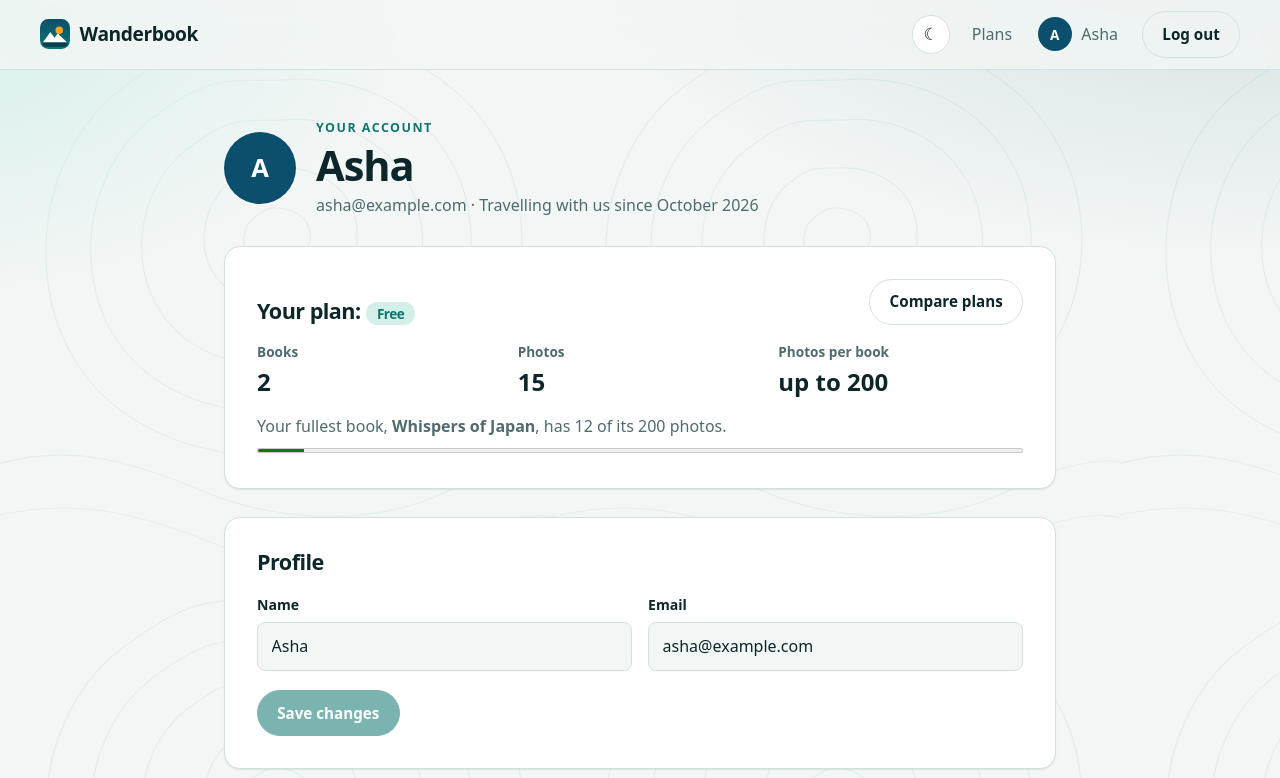
Test: the account page › renames without a password, and asks for it only when the email changes
This screenshot has width=1280, height=778.
Expected: the field labelled "Current password" is not shown
Replace the text in the field labelled "Name" with "Asha R": x=444, y=646 [257, 622, 632, 671]
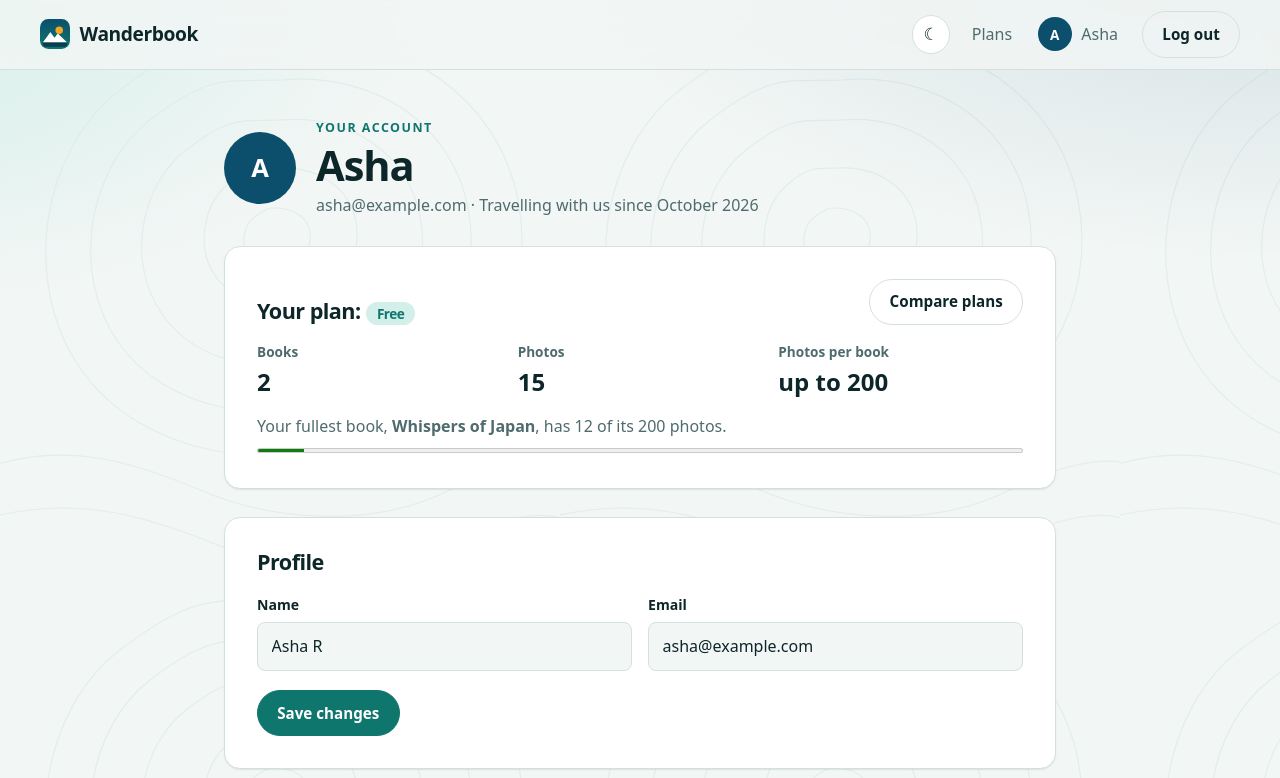
Click the button "Save changes": x=328, y=713 [257, 690, 400, 736]
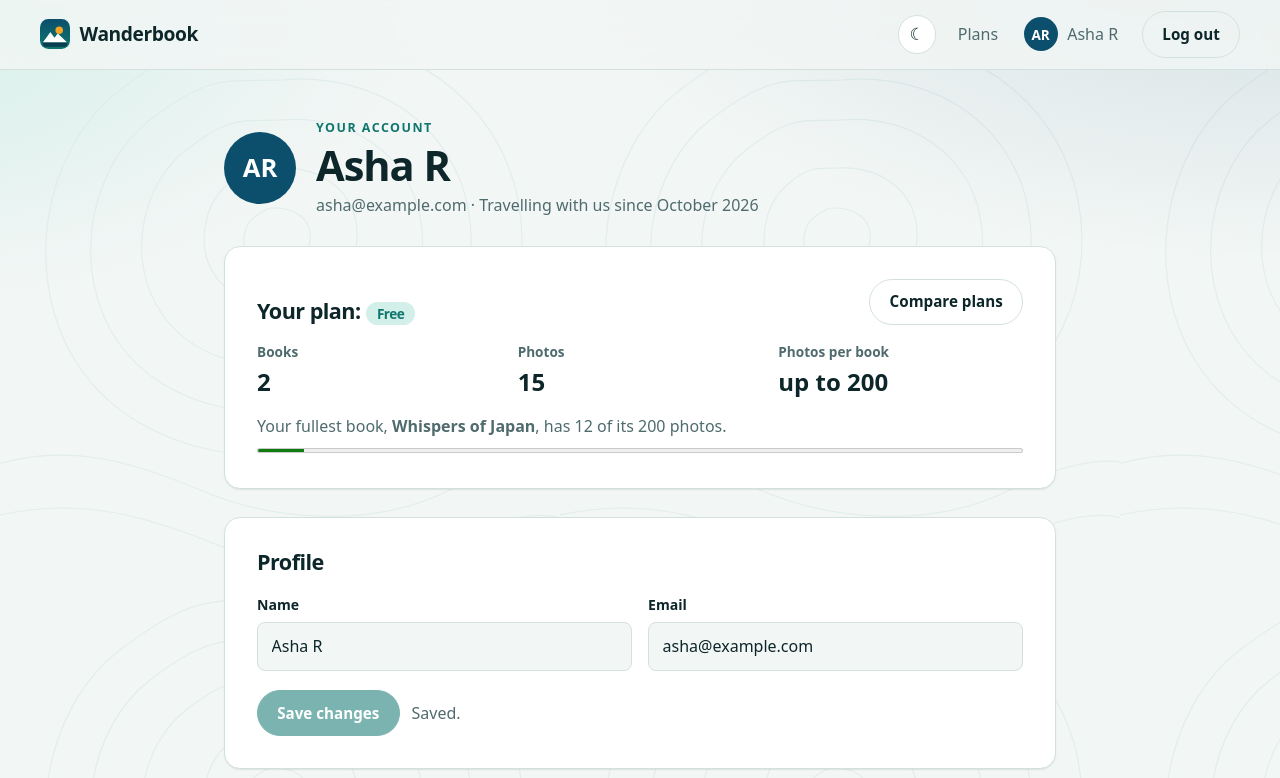
Now the text "Saved." is shown, box [412, 701, 461, 726]
Replace the text in the field labelled "Email" with "new@example.com": x=836, y=646 [648, 622, 1023, 671]
(page scrolled)
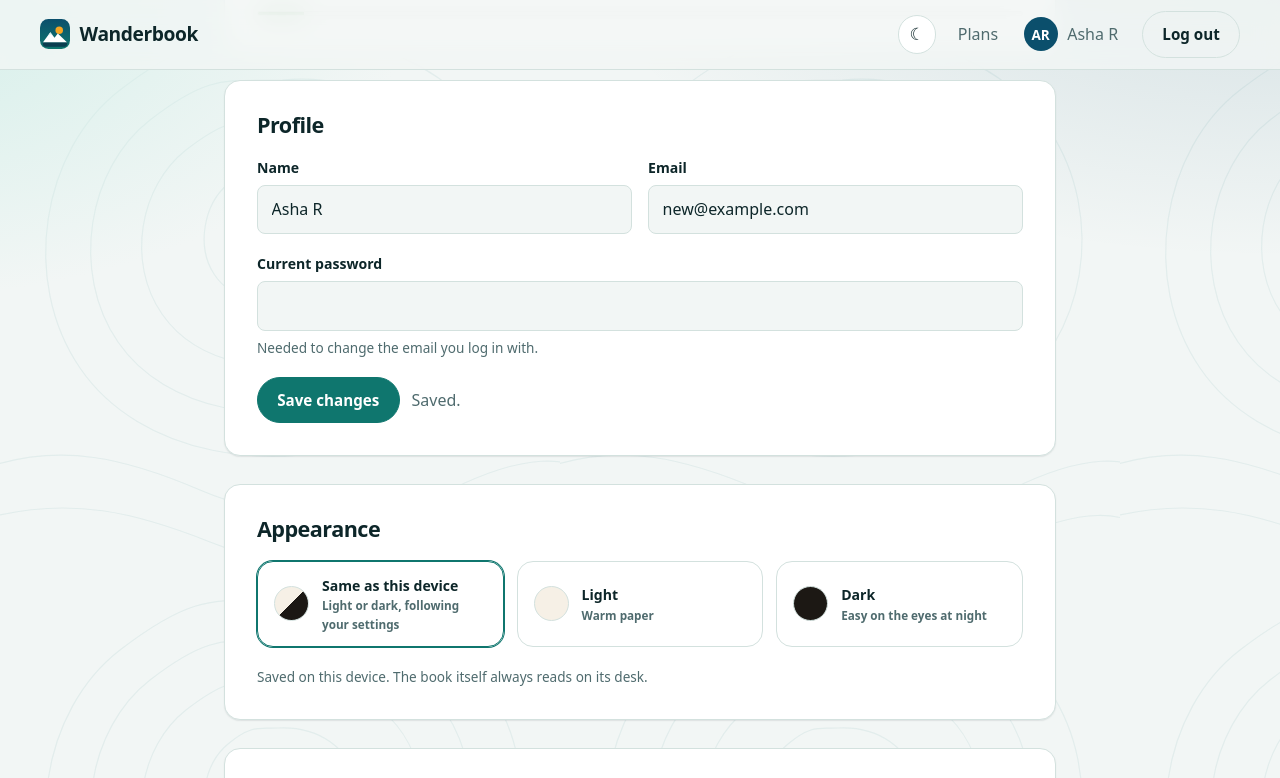
Click the button "Save changes": x=328, y=400 [257, 377, 400, 423]
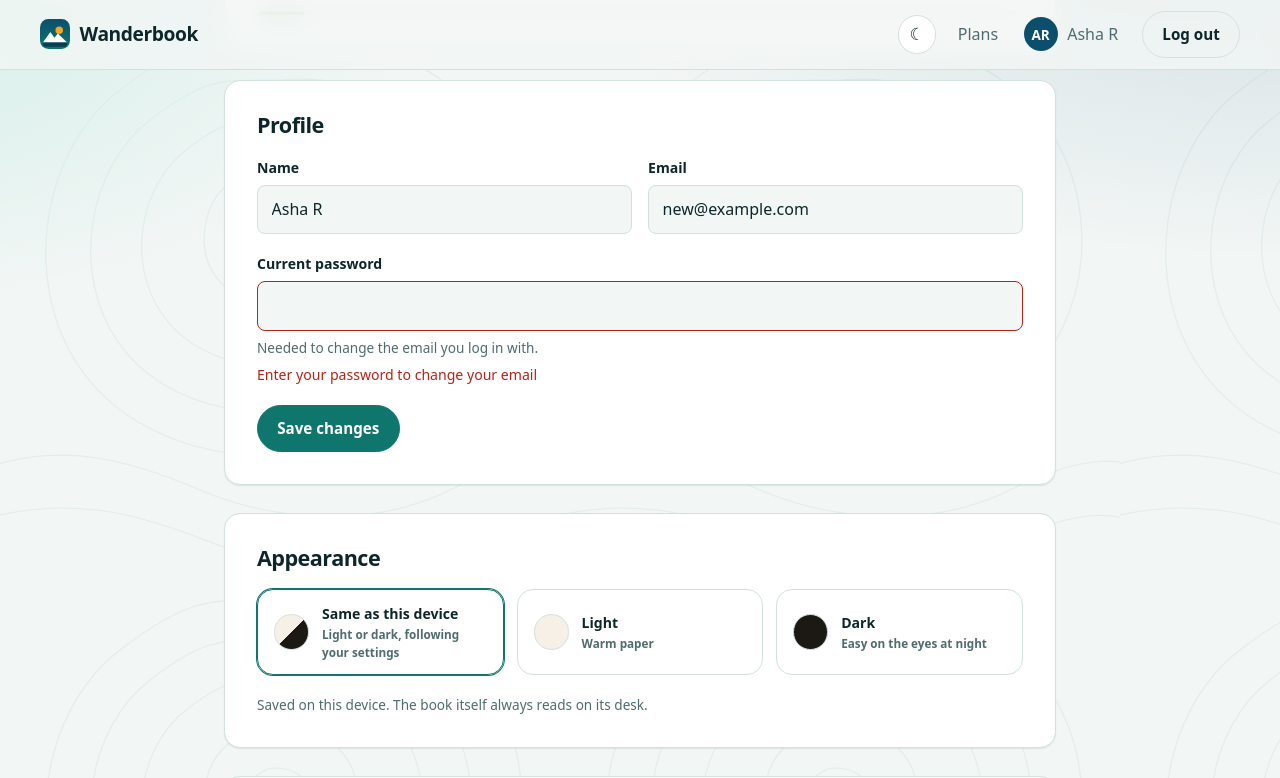
Now the text "Enter your password to change your email" is shown, box [257, 365, 537, 384]
